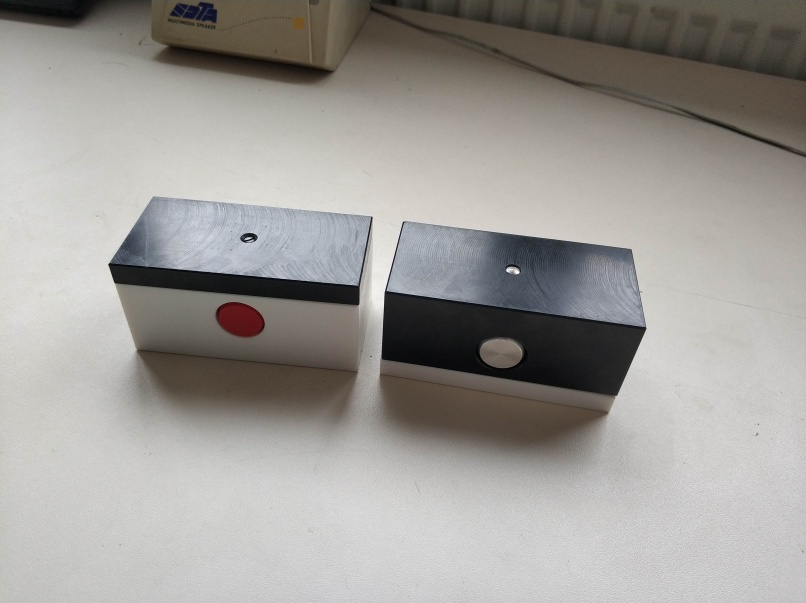black+white+red: (107, 194, 372, 375)
white+black+silver: (377, 210, 651, 417)
